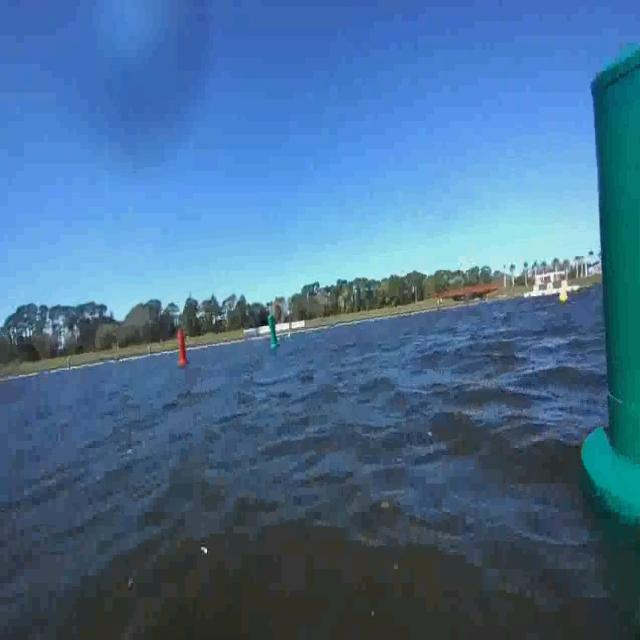green-column-buoy: (573, 39, 640, 537), (268, 314, 281, 348)
red-column-buoy: (176, 329, 189, 367)
